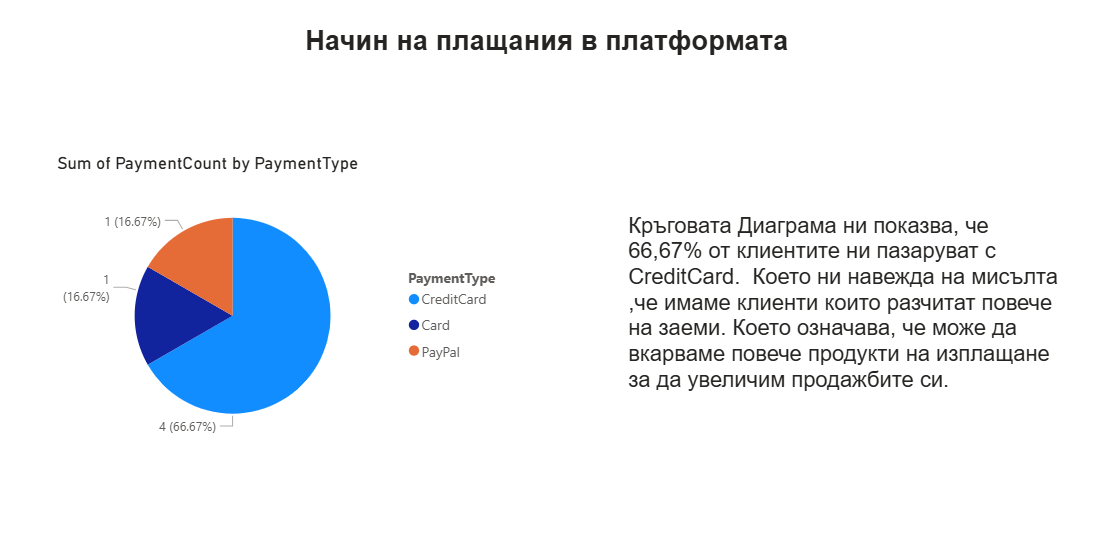

The page's visual inventory and layout, read from the dashboard file:
{"tool":"powerbi","page":{"name":"Страница 3","canvas":[1280,720],"ordinal":2},"visuals":[{"type":"pieChart","fields":{"Y":["Sum(V_PaymentTypeDistribution.PaymentCount)"],"Category":["V_PaymentTypeDistribution.PaymentType"]},"box":[124.5,211.1,452.3,297.6],"z":1},{"type":"textbox","box":[679.9,264.6,437.7,189.7],"z":2},{"type":"textbox","box":[365.7,81.7,483.4,42.8],"z":3}]}

Visuals, with their boxes on the page's 1280x720 design canvas (x1, y1, x2, y2). These are canvas units, not pixel positions in the 1108x556 screenshot, which may show the page scaled, cropped or inside an application window:
pieChart - Sum(V_PaymentTypeDistribution.PaymentCount) x V_PaymentTypeDistribution.PaymentType: [left=124, top=211, right=577, bottom=509]
textbox: [left=680, top=265, right=1118, bottom=454]
textbox: [left=366, top=82, right=849, bottom=124]
